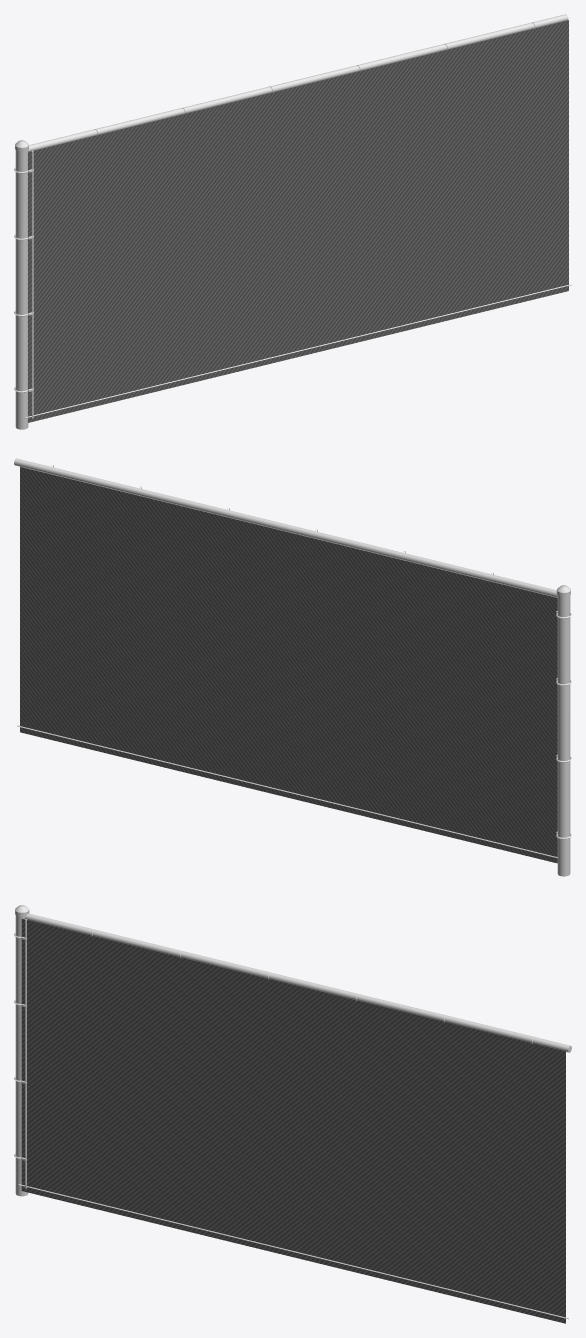
Rendered from SM_Fence_Chain.fbx.
3 renders of one model, top to bottom at view 1: azimuth 30°, elevation 25°; view 2: azimuth 150°, elevation 25°; view 3: azimuth 330°, elevation 25°, orthographic.
Visible parts, largest first — view 1: SM_Fence_Chain; view 2: SM_Fence_Chain; view 3: SM_Fence_Chain.
Part boxes in pixels (x1,y1,x2,y2): SM_Fence_Chain: [14, 14, 571, 429]; SM_Fence_Chain: [14, 458, 571, 876]; SM_Fence_Chain: [14, 905, 571, 1323].
Bounding box in the file's own units: 304 × 150 × 7.6.
